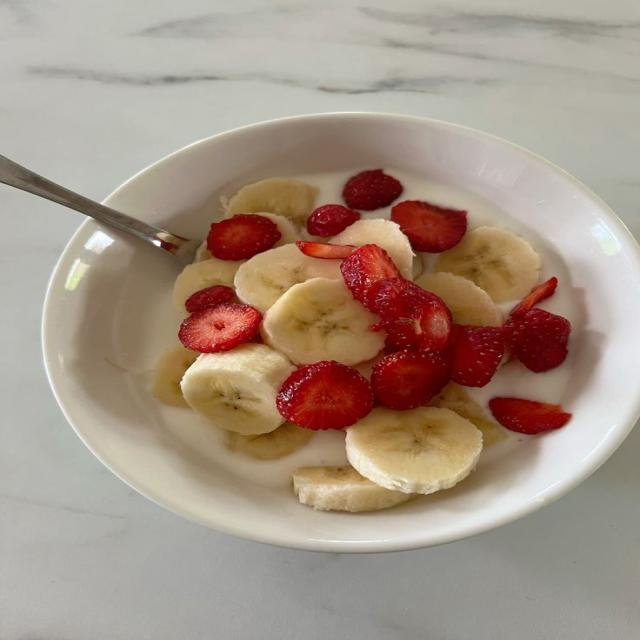banana slice: (346, 407, 482, 494), (261, 276, 384, 365), (182, 343, 295, 434), (436, 226, 541, 302), (234, 243, 341, 313), (293, 465, 412, 511), (329, 219, 413, 278), (428, 382, 505, 446), (415, 272, 502, 326), (226, 179, 317, 224), (173, 258, 245, 309), (226, 422, 312, 459), (152, 345, 197, 406)
strawberry sliced: (276, 361, 373, 429), (367, 278, 452, 350), (372, 351, 450, 410), (505, 308, 571, 372), (179, 303, 261, 352), (340, 244, 401, 307), (392, 201, 466, 252), (207, 214, 281, 260), (452, 325, 505, 386), (489, 398, 571, 434), (343, 169, 402, 210), (367, 278, 417, 319), (510, 277, 557, 318), (307, 205, 360, 237), (186, 286, 233, 313), (296, 241, 355, 259), (385, 324, 418, 354)
